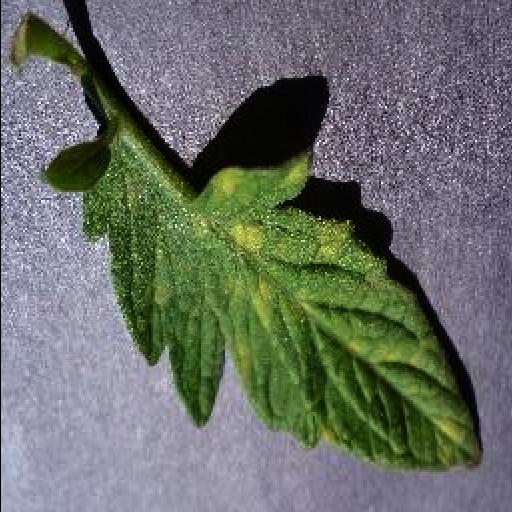disease_tomato: (82, 152, 482, 472)
